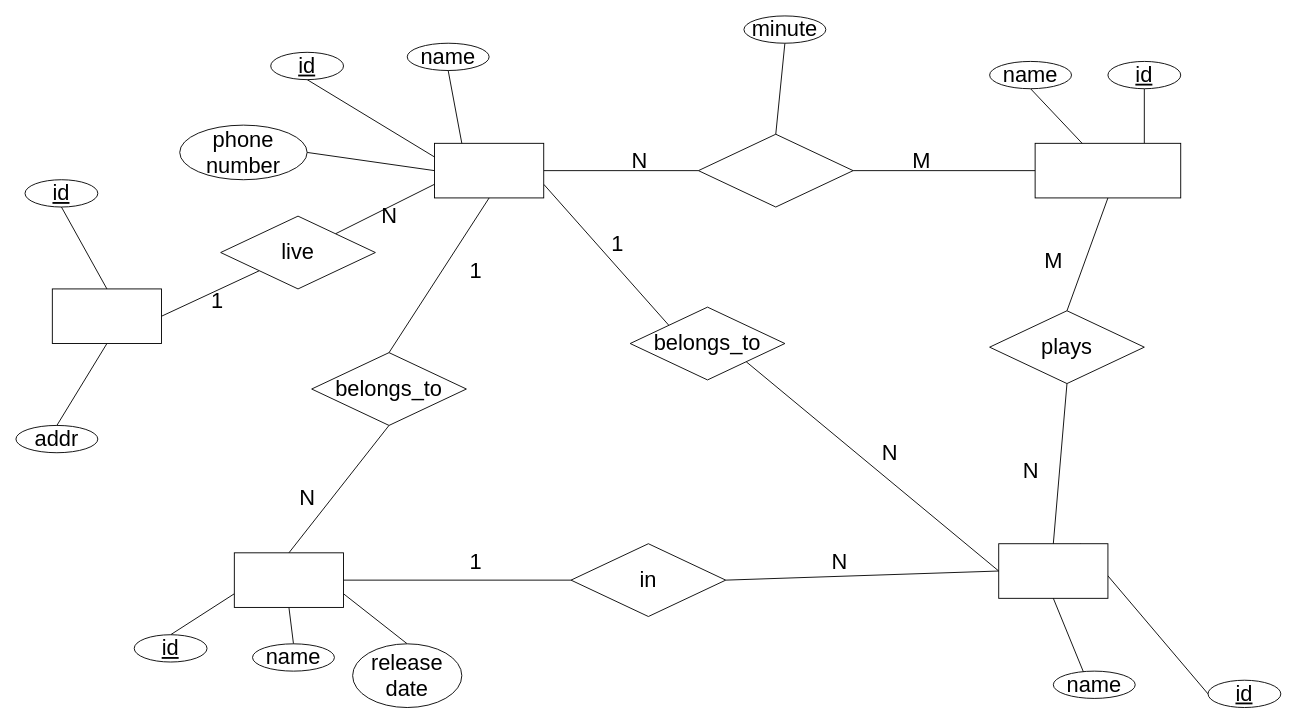
Some shapes in this 1297 by 723 pixel diagram are drawn without their labels. The centre of each missing label's shape, as x and y in pixels:
"Address" belongs at pixel 106 316.
"Album" belongs at pixel 288 579.
"Artist" belongs at pixel 489 170.
"Instrument" belongs at pixel 1107 170.
"play" belongs at pixel 775 170.
"Song" belongs at pixel 1053 570.
